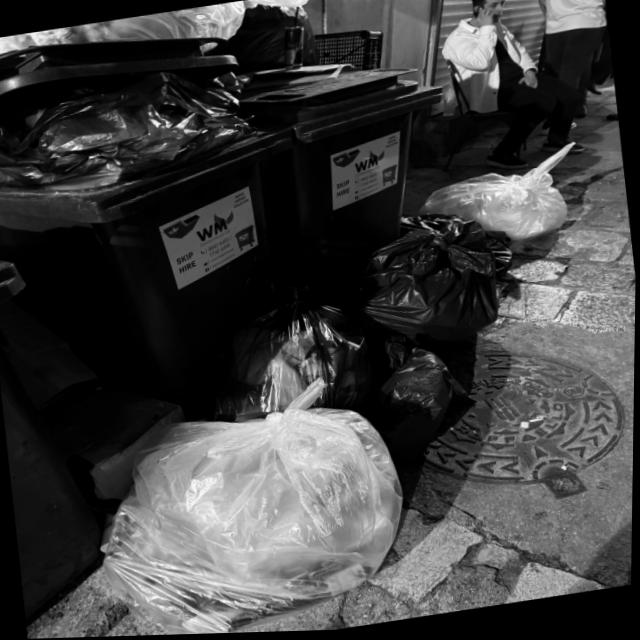Mixed Waste -Black Bags-: (208, 217, 512, 466)
Recyclable Material -Grey Bags-: (104, 381, 405, 636), (420, 145, 576, 245)
